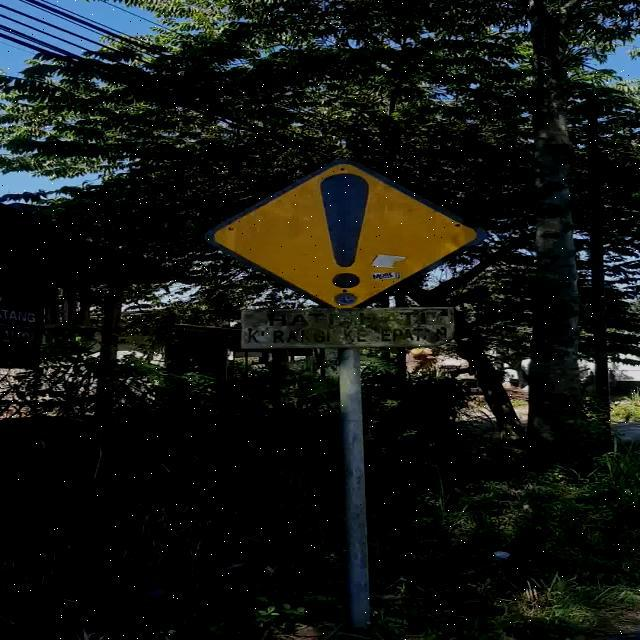Hati-Hati: (205, 156, 488, 308)
